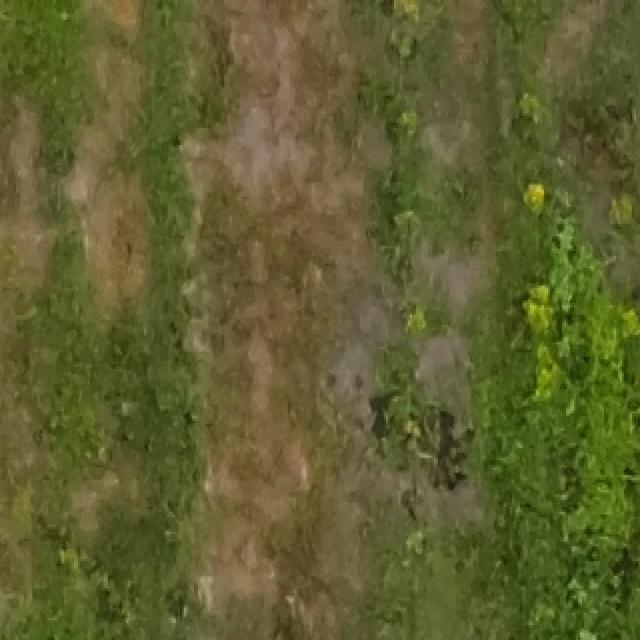strawberry-plant: (130, 353, 198, 494), (382, 374, 439, 479), (527, 343, 591, 427), (564, 477, 624, 562), (520, 180, 571, 250), (515, 283, 574, 340), (391, 202, 439, 266), (389, 0, 428, 78), (516, 97, 560, 152), (52, 534, 94, 590), (399, 294, 438, 352), (389, 103, 426, 155), (397, 526, 433, 565), (614, 187, 640, 239), (628, 399, 640, 463), (60, 630, 102, 640)
